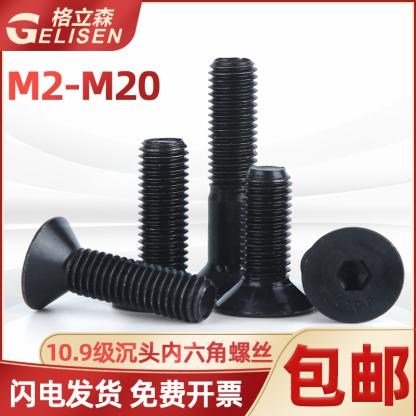FOD: (17, 211, 221, 327), (189, 55, 277, 304), (212, 154, 317, 320), (110, 131, 201, 315), (300, 220, 403, 325)
